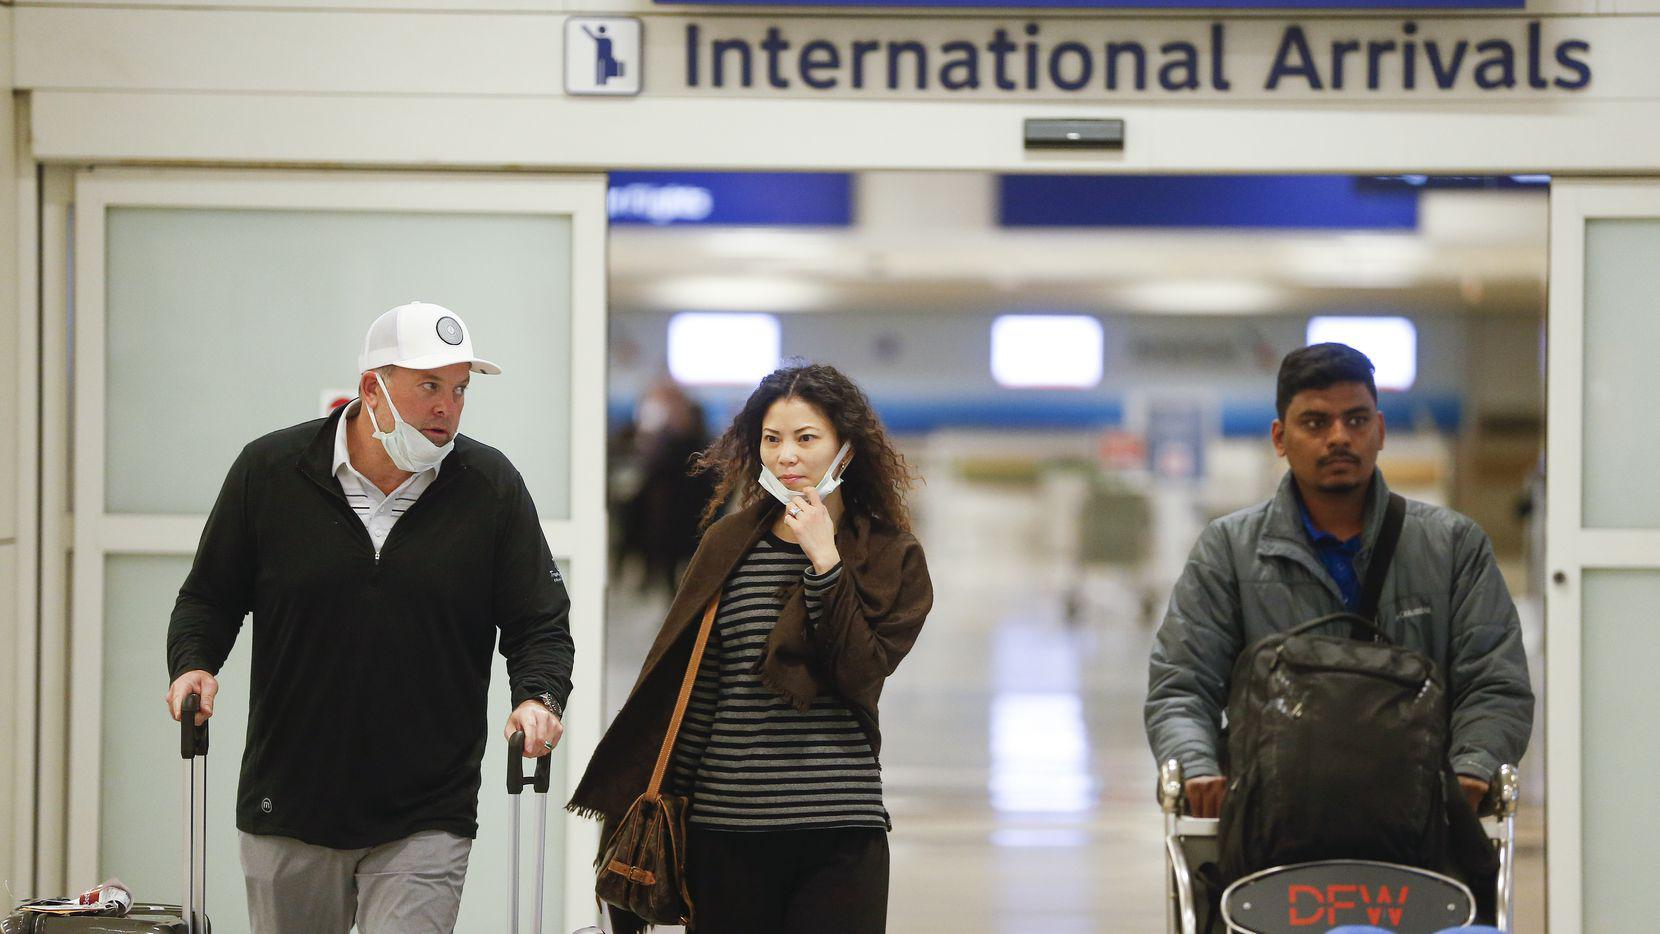none: (1283, 397, 1382, 492)
poor: (377, 367, 470, 458), (758, 420, 843, 503)
